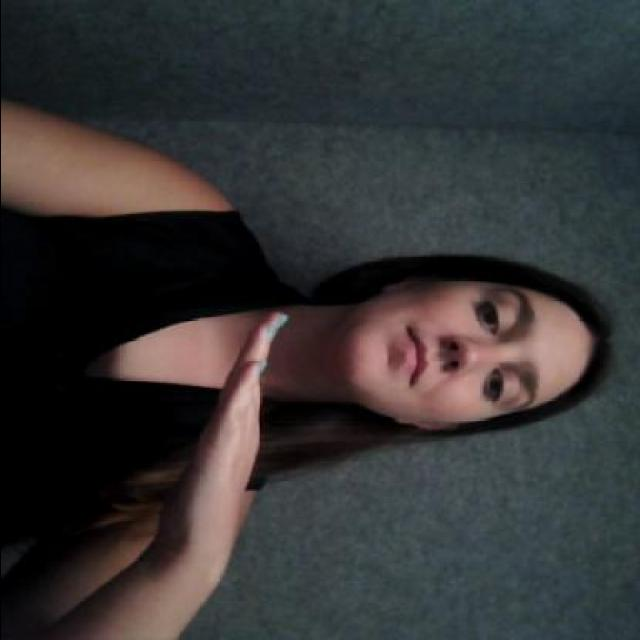Paper: (155, 304, 297, 570)
